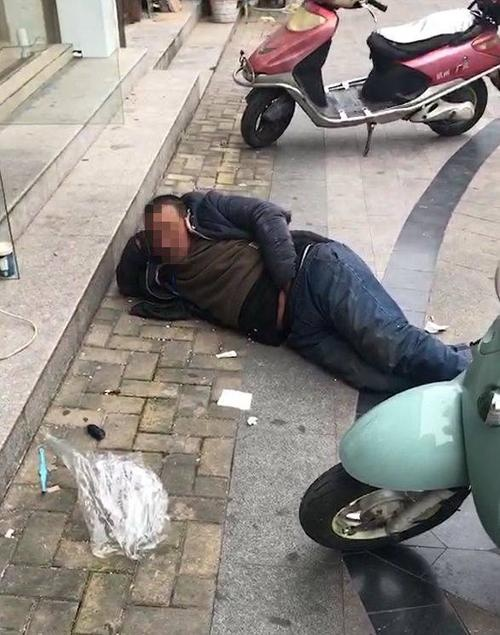falling: (134, 168, 463, 407)
